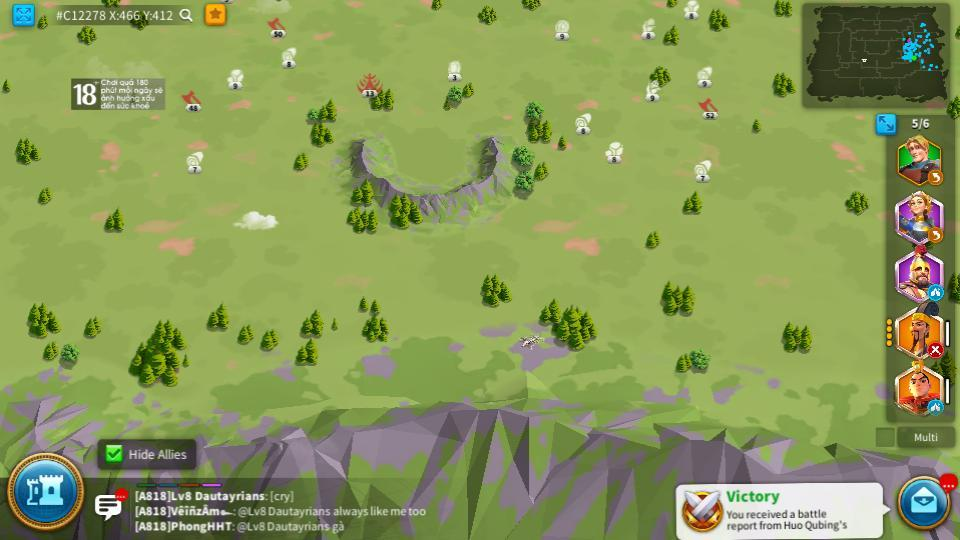gem-z-out: (553, 19, 571, 39)
march_attacking: (929, 345, 943, 357)
march_idle: (927, 401, 944, 415), (929, 286, 943, 299)
march_returning: (927, 170, 944, 185), (928, 228, 942, 240)
